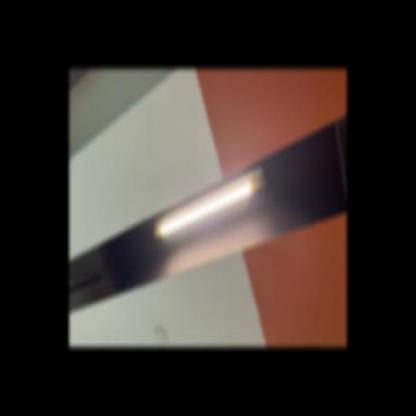light_on: (149, 159, 274, 239)
